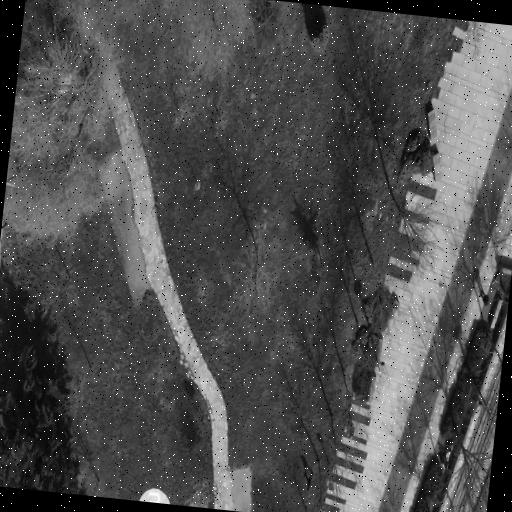car: (139, 489, 170, 504)
